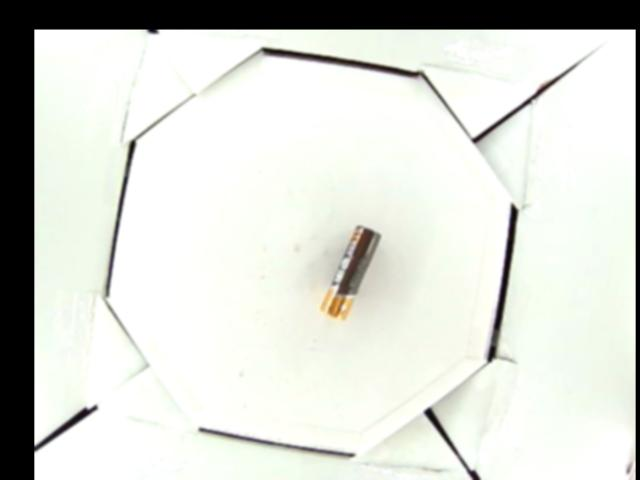Battery: (319, 225, 381, 320)
